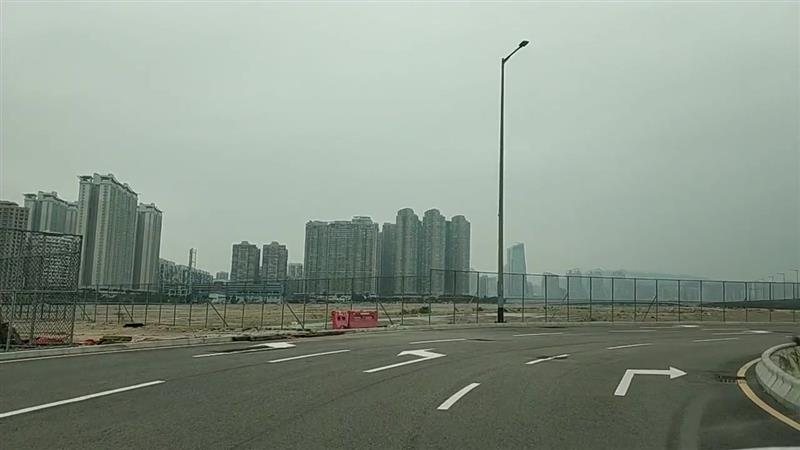roadTurnRight: (613, 365, 688, 397)
